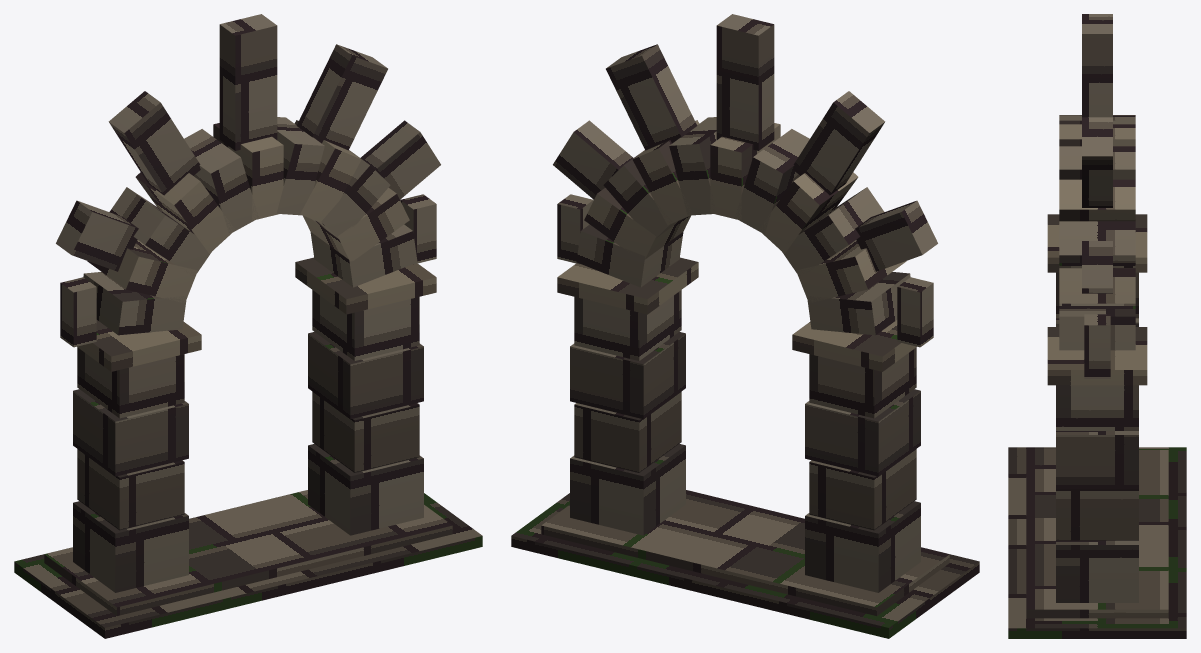
The model's file is realm_arch.glb.
The picture shows the model from 3 angles, left to right: view 1: azimuth 30°, elevation 25°; view 2: azimuth 150°, elevation 25°; view 3: azimuth 270°, elevation 25°; orthographic projection.
Parts seen in each view (by area): view 1: realm_arch; view 2: realm_arch; view 3: realm_arch.
Part boxes in pixels (x1,y1,x2,y2): realm_arch: (14, 14, 482, 638); realm_arch: (511, 14, 979, 638); realm_arch: (1008, 14, 1186, 638).
Bounding box in the file's own units: 3.6 × 4.87 × 1.5.
Materials: 1 (1 with a texture image).
